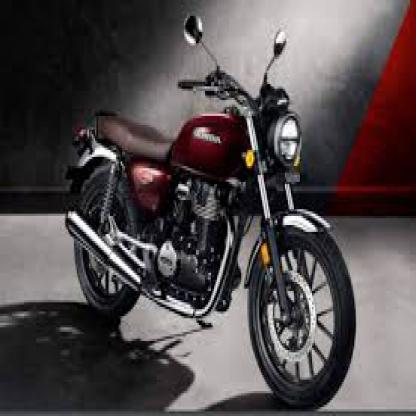Motorcycle: (52, 9, 358, 414)
